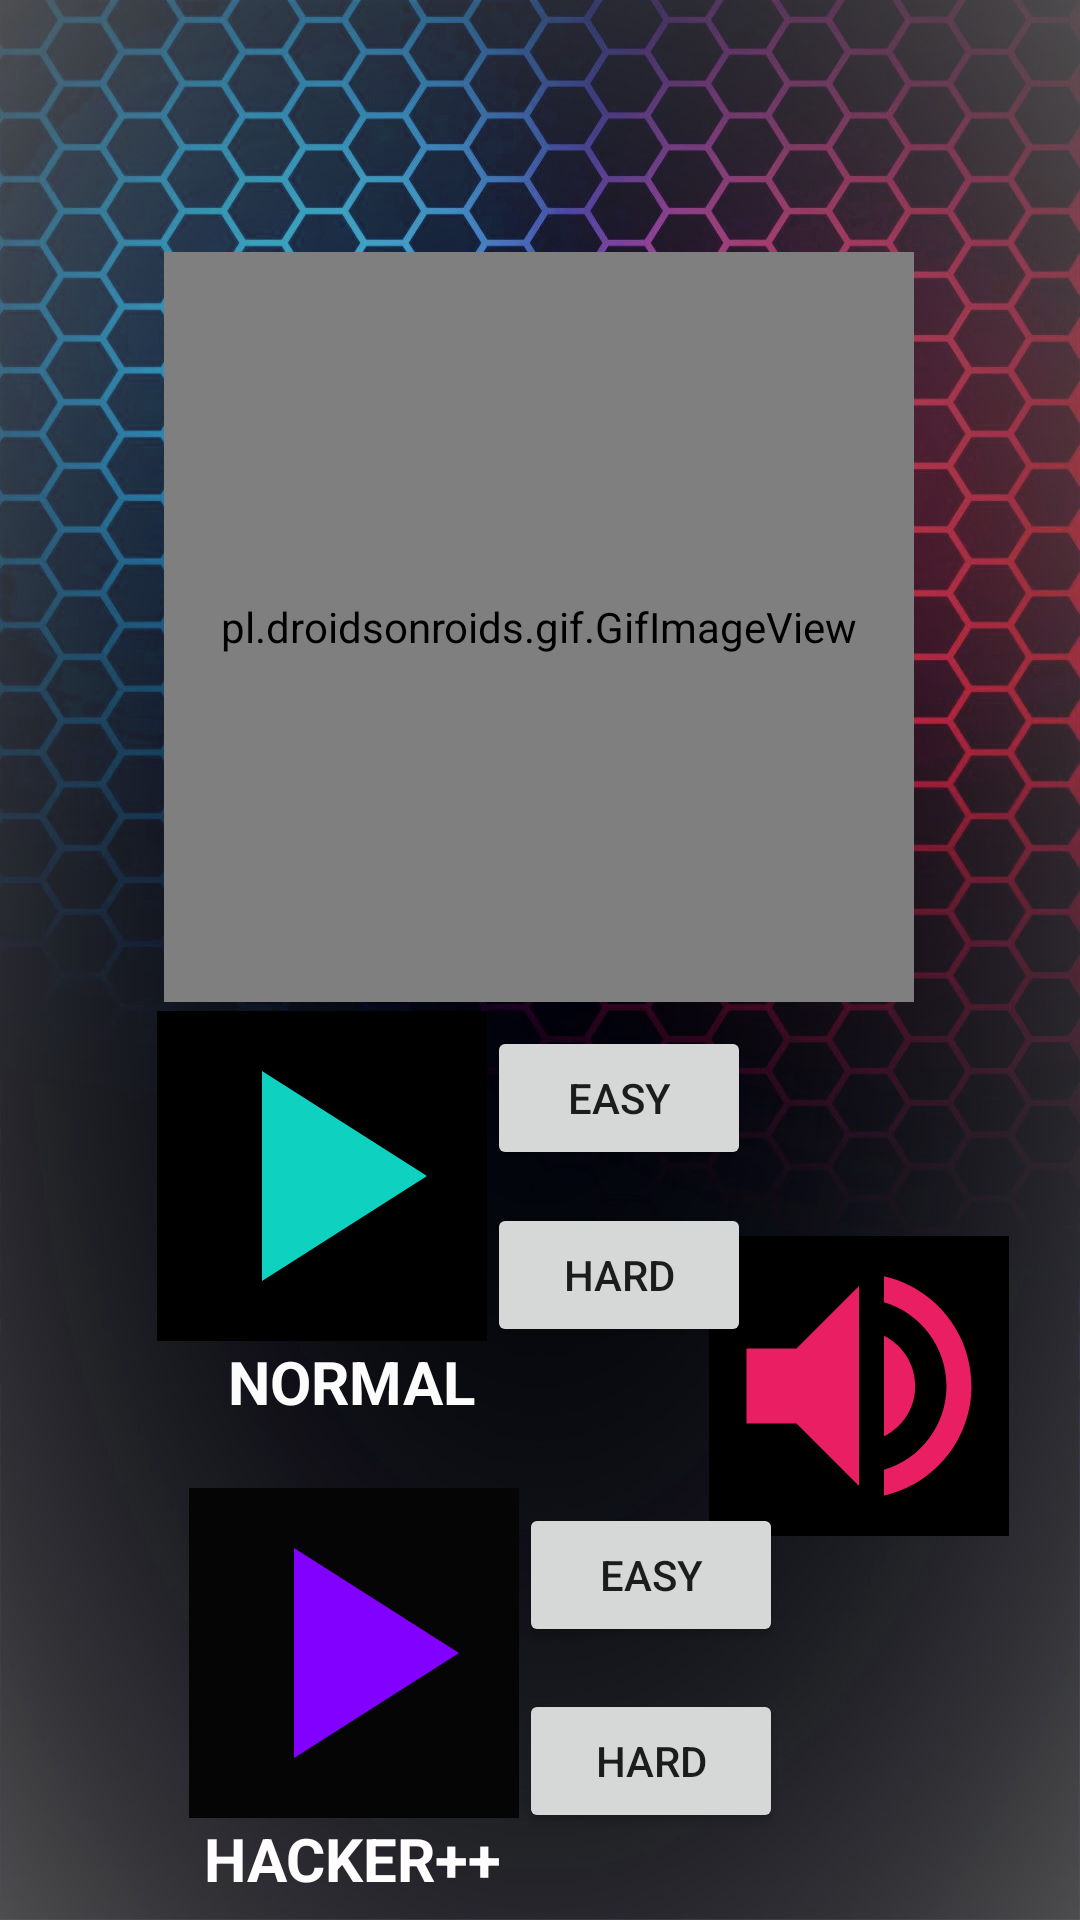

Icons on this 1080 x 1920 Android screen, each with the point to tap as [x,y]:
play: [354,1653]
play arrow: [344,1176]
volume up: [859,1386]
